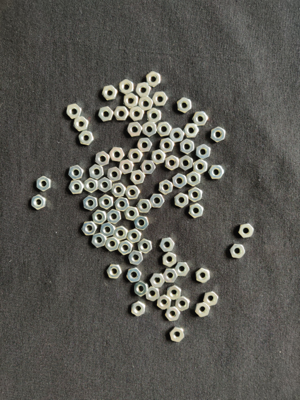nut: (136, 82, 152, 98), (102, 85, 118, 101), (203, 291, 219, 307), (146, 72, 161, 88), (124, 93, 139, 109), (177, 98, 192, 114), (193, 111, 209, 126), (99, 106, 114, 122), (129, 106, 144, 122), (147, 108, 162, 124), (211, 127, 226, 143), (127, 122, 143, 137), (37, 176, 52, 192), (31, 195, 47, 210), (137, 138, 153, 153), (196, 144, 211, 160), (95, 151, 110, 167), (109, 147, 125, 162), (119, 159, 134, 175), (107, 167, 123, 182), (130, 170, 146, 185), (99, 194, 114, 210), (189, 203, 204, 219), (230, 244, 246, 259), (134, 216, 150, 231), (118, 240, 133, 256), (126, 268, 142, 283), (196, 268, 211, 284), (196, 302, 211, 318), (170, 327, 185, 343), (127, 149, 144, 163), (153, 92, 168, 107), (67, 104, 82, 119), (74, 117, 89, 132), (79, 131, 94, 146), (157, 122, 172, 137), (170, 128, 185, 143), (160, 138, 175, 153), (69, 165, 84, 180), (69, 180, 84, 195), (151, 150, 166, 165), (89, 165, 104, 180), (141, 160, 156, 175), (111, 183, 126, 198), (125, 185, 140, 200), (83, 196, 98, 211), (115, 197, 130, 212), (188, 187, 203, 202), (137, 199, 152, 214), (125, 206, 140, 221), (107, 209, 122, 224), (92, 210, 107, 225), (82, 221, 97, 236), (92, 233, 107, 248), (113, 226, 128, 241), (127, 229, 142, 244), (105, 237, 120, 252), (129, 251, 144, 266), (160, 238, 175, 253), (107, 264, 122, 279), (175, 262, 190, 277), (175, 296, 190, 311), (120, 79, 134, 95), (143, 122, 157, 138), (183, 124, 199, 138), (181, 139, 195, 155), (165, 155, 179, 171), (194, 159, 208, 175), (98, 177, 112, 193), (173, 173, 187, 189), (149, 194, 165, 208), (100, 223, 116, 237), (135, 281, 149, 297), (132, 301, 146, 317), (139, 96, 153, 111), (114, 107, 129, 121), (84, 178, 98, 193), (159, 180, 173, 195), (187, 172, 201, 187), (175, 193, 189, 208), (239, 224, 254, 238), (138, 239, 152, 254), (163, 252, 177, 267), (163, 269, 178, 283), (150, 274, 165, 288), (146, 287, 160, 302), (167, 285, 181, 300), (158, 295, 172, 310), (166, 307, 181, 321), (209, 166, 225, 179), (180, 156, 193, 171)
